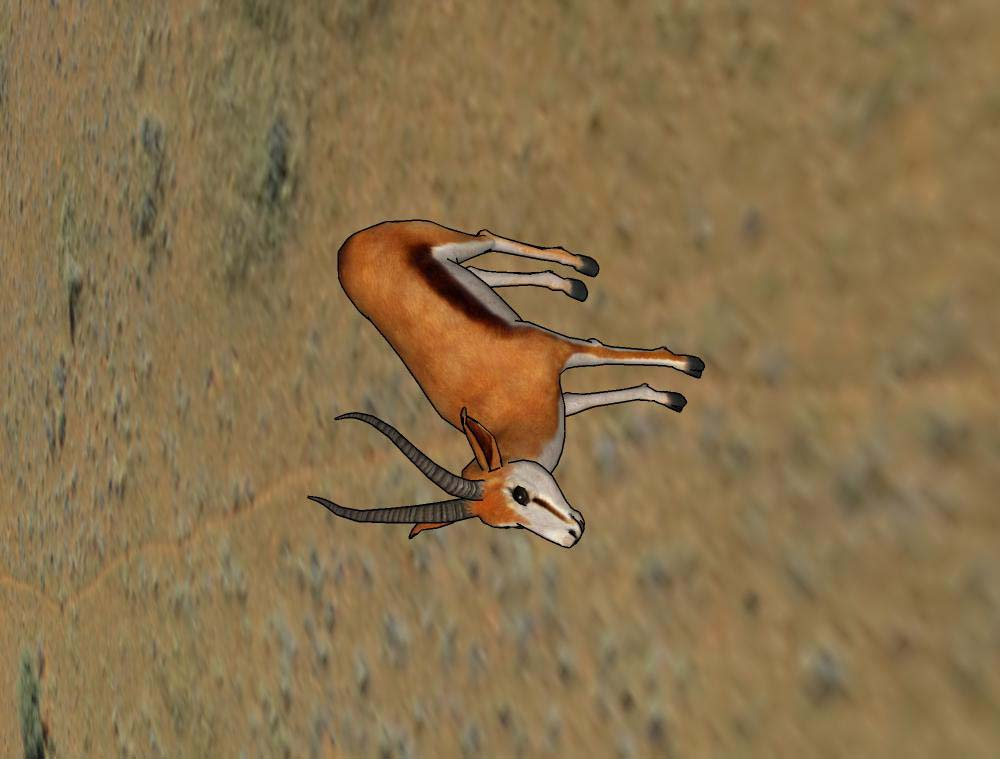springbok: (296, 209, 735, 557)
